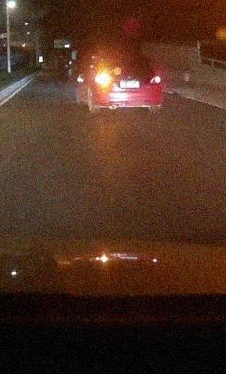L_light: (96, 76, 115, 83)
R_light: (145, 76, 161, 83)
T_light: (120, 60, 133, 63)
night-left: (95, 56, 162, 114)
